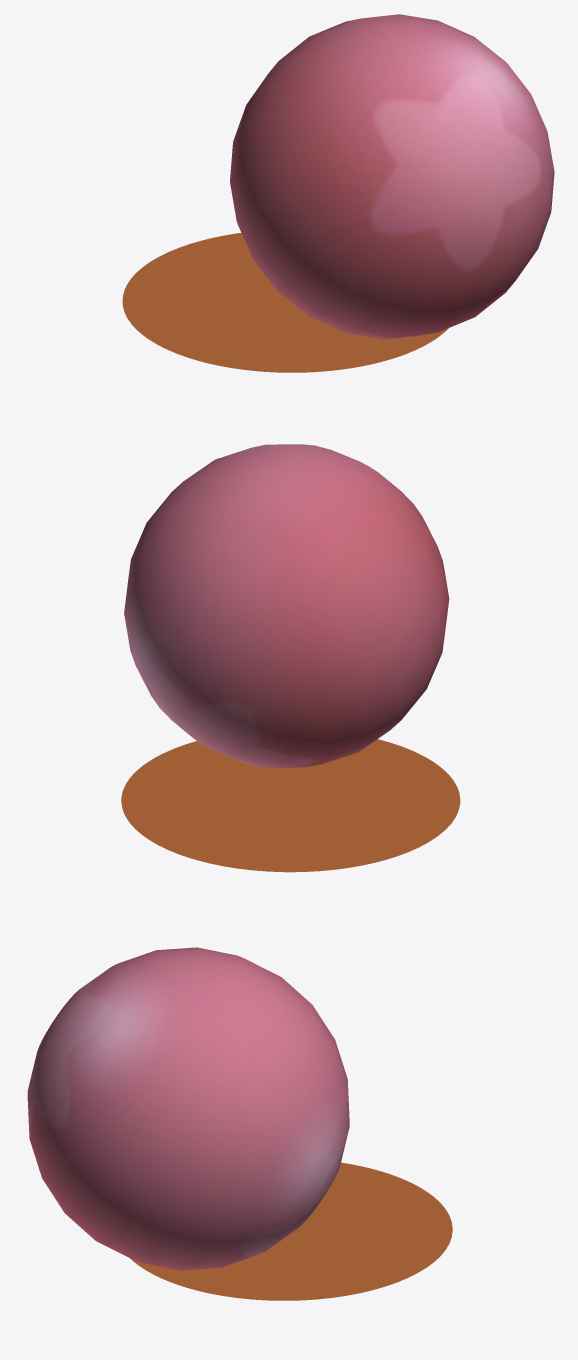
Rendered from 宝宝巴士-主框架-推送地图-游园会-球5.FBX.
3 renders of one model, top to bottom at view 1: azimuth 30°, elevation 25°; view 2: azimuth 150°, elevation 25°; view 3: azimuth 270°, elevation 25°, orthographic.
Visible parts, largest first — view 1: 宝宝巴士-主框架-推送地图-游园会-球5; view 2: 宝宝巴士-主框架-推送地图-游园会-球5; view 3: 宝宝巴士-主框架-推送地图-游园会-球5.
Boxes of the visible parts, x1,y1,x2,y2 form: 宝宝巴士-主框架-推送地图-游园会-球5: (122,14,554,372); 宝宝巴士-主框架-推送地图-游园会-球5: (121,444,460,872); 宝宝巴士-主框架-推送地图-游园会-球5: (27,947,452,1300).
Bounding box in the file's own units: 126 × 74.07 × 126.
